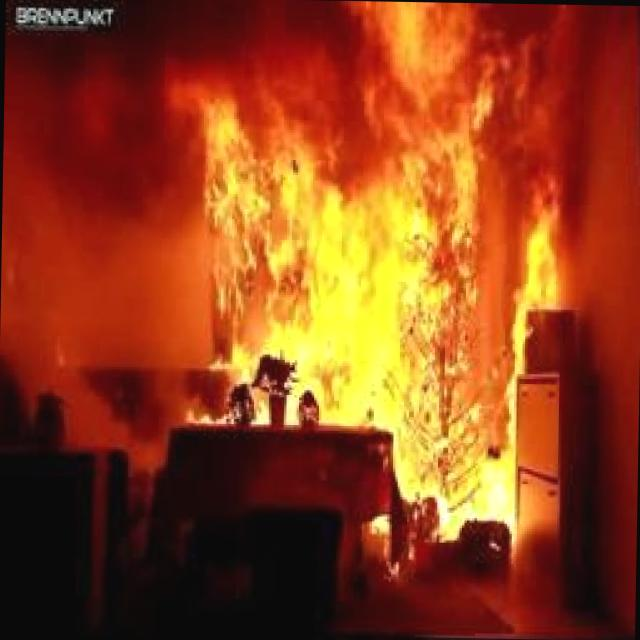fire: (138, 17, 588, 604)
